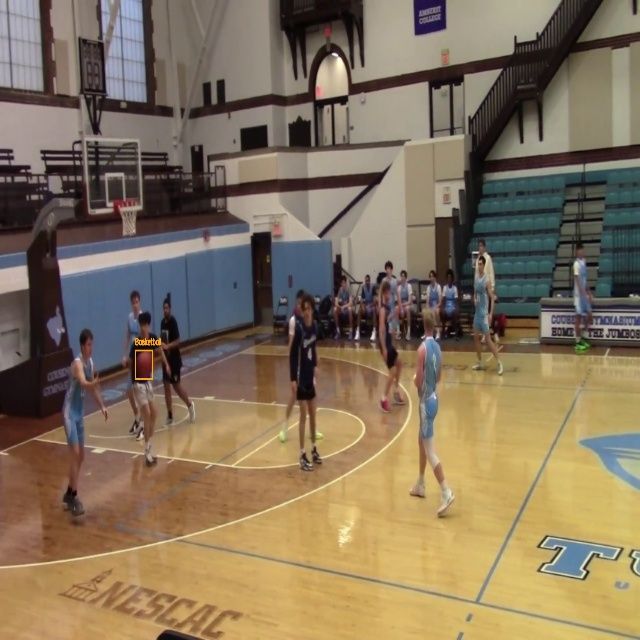Basketball: (135, 351, 153, 379)
